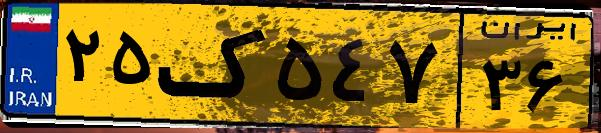2: (57, 26, 110, 100)
3: (475, 38, 525, 113)
4: (330, 28, 385, 110)
5: (270, 28, 330, 110), (110, 28, 158, 98)
6: (525, 38, 570, 115)
7: (385, 28, 445, 110)
ک: (158, 12, 270, 120)
